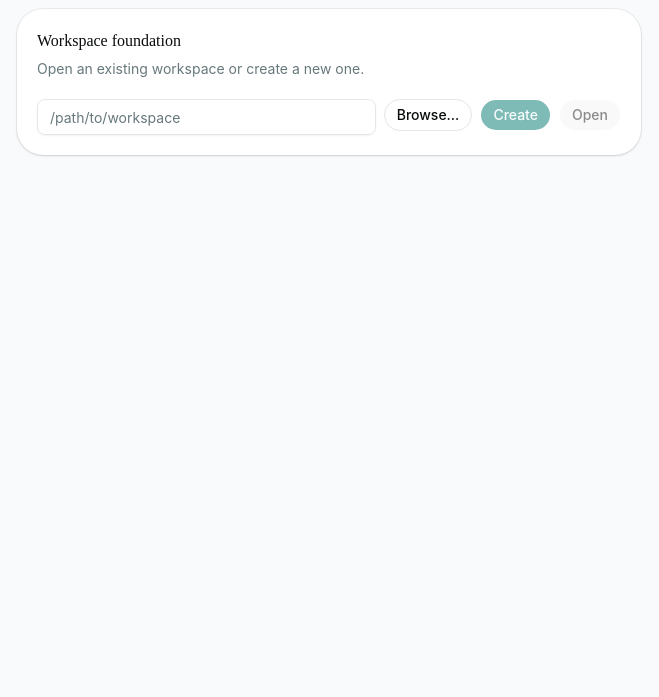
it: WorkspaceFoundationPanel › loads resolved meaning and provenance for the selected object
Type "/Users/demo/workspaces/demo" into the field named "Workspace folder" at (206, 117), box 37,99 -> 376,135
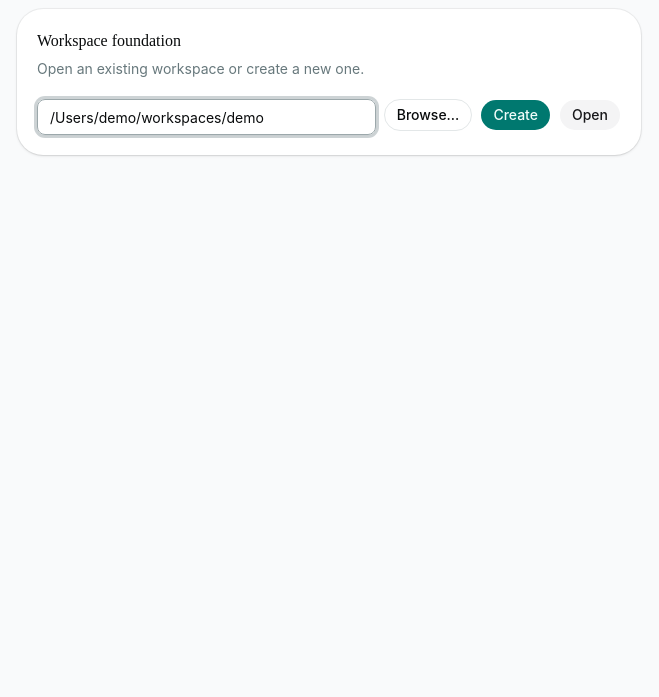
Click the button "Open" at (590, 115), box 559,99 -> 621,131
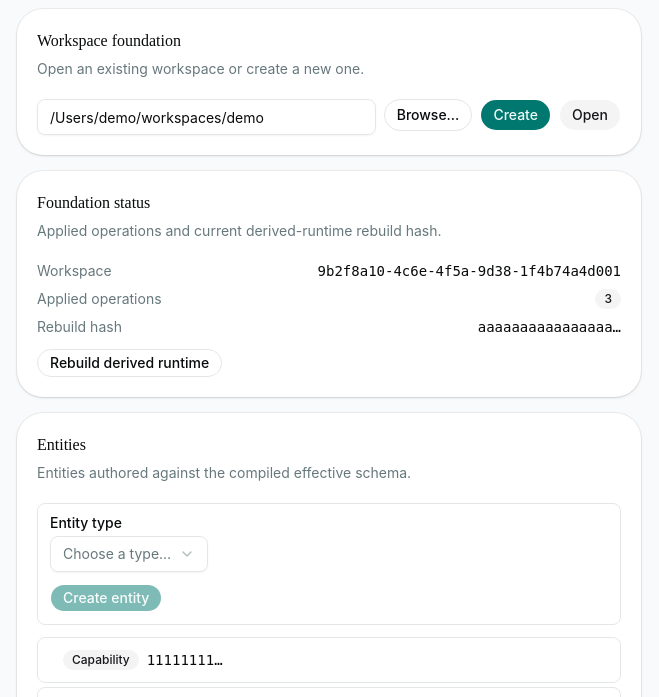
Result: the button with aria-label "Inspect Capability" is shown
Click the button with aria-label "Inspect Capability" at (143, 660), box 50,646 -> 236,674
(page scrolled)
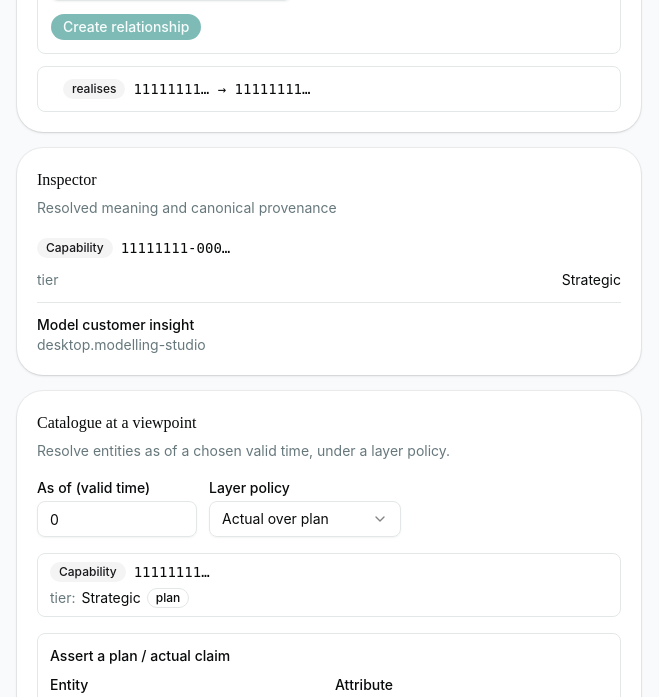
Result: the text "Model customer insight" is shown at 37,316 -> 194,333
Result: the text "desktop.modelling-studio" is shown at 37,336 -> 206,353
